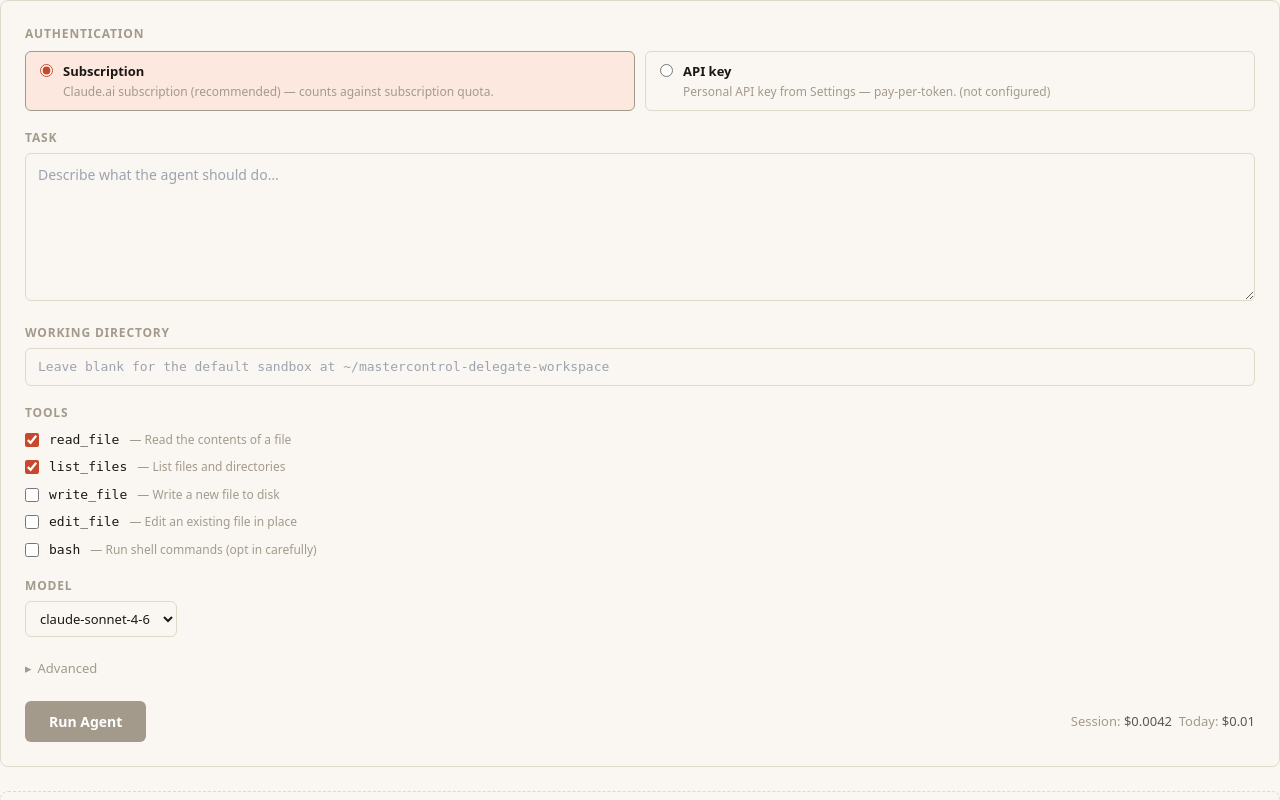
Test: DelegateConsole — streaming flow › aborting the stream hides the streaming indicator
Type "Cancel me" into the text box labelled "Task" at (640, 227), box [25,153,1255,301]
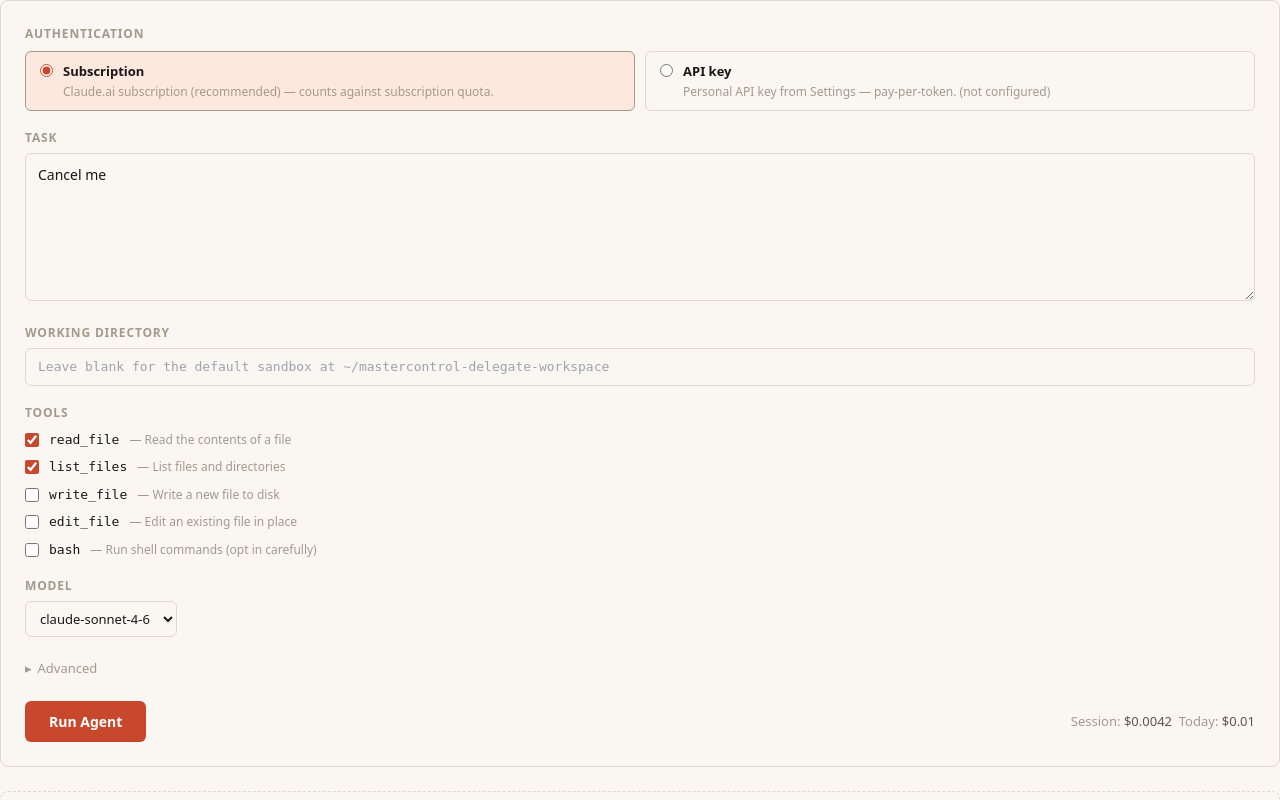
Click the button "Run Agent" at (86, 721), box [25,701,146,742]
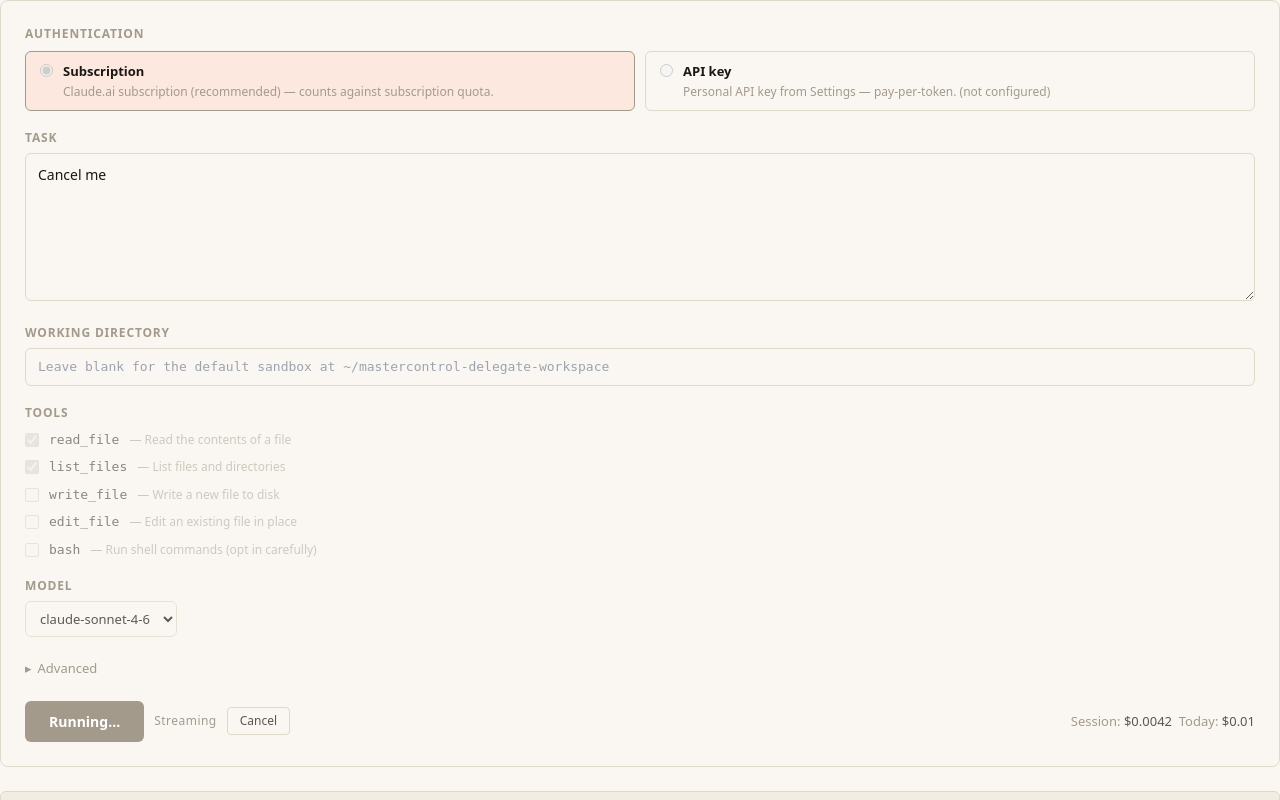
Expected: the button "Cancel" is shown
Click the button "Cancel" at (258, 721), box [227,707,290,735]
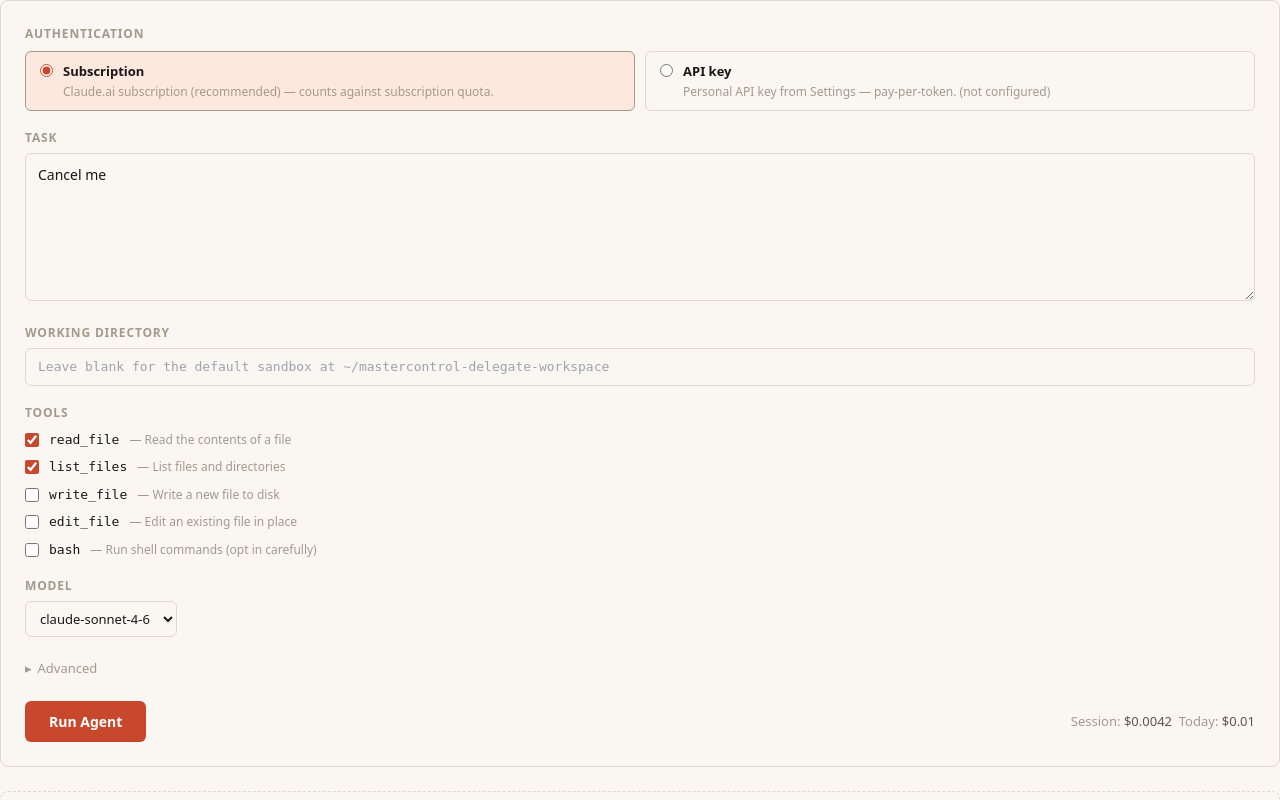
Expected: the text "Streaming" is gone
